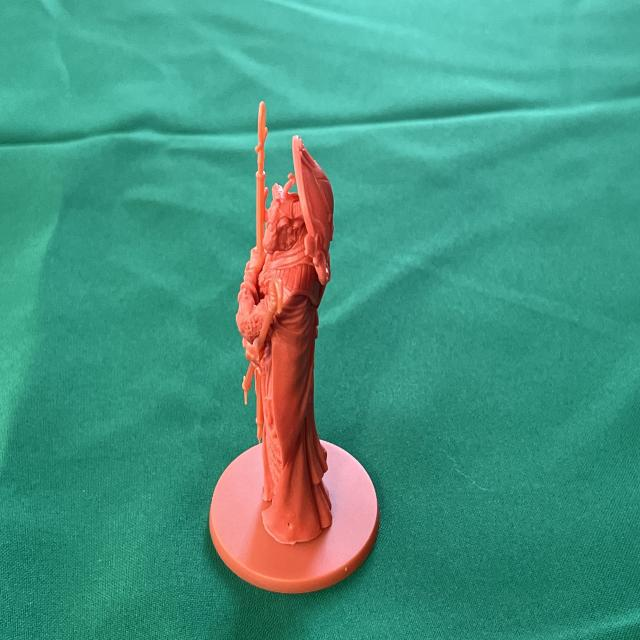amon: (204, 95, 384, 598)
